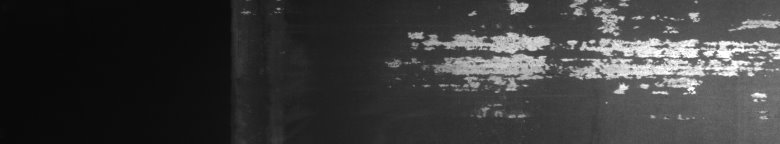kb: (496, 4, 776, 120)
